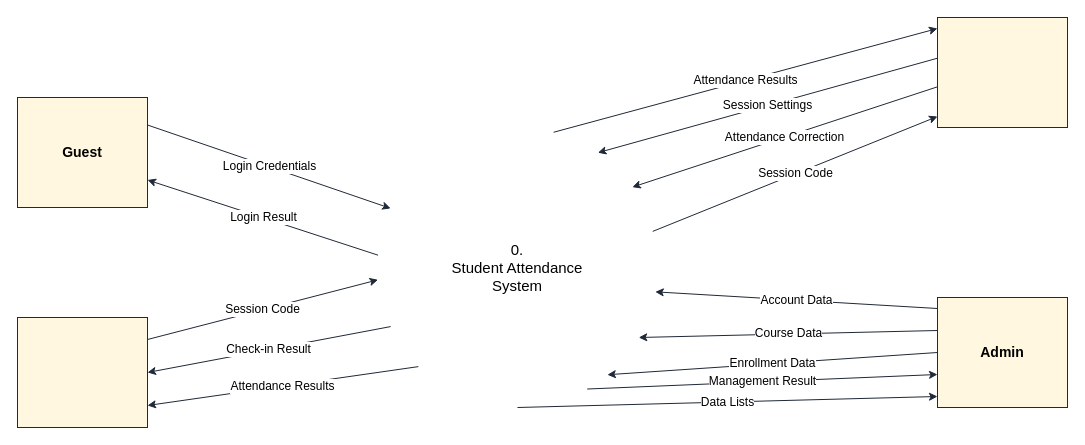
This 1085x445 diagram has some shape labels left out. The centre of each missing label's shape, as x and y in pixels:
Lecturer: pixel 1002 72
Student: pixel 82 372
